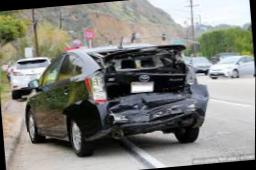Bumper: (89, 83, 206, 135)
Dickey: (87, 43, 187, 100)
Light: (83, 76, 105, 100), (184, 66, 200, 92)
